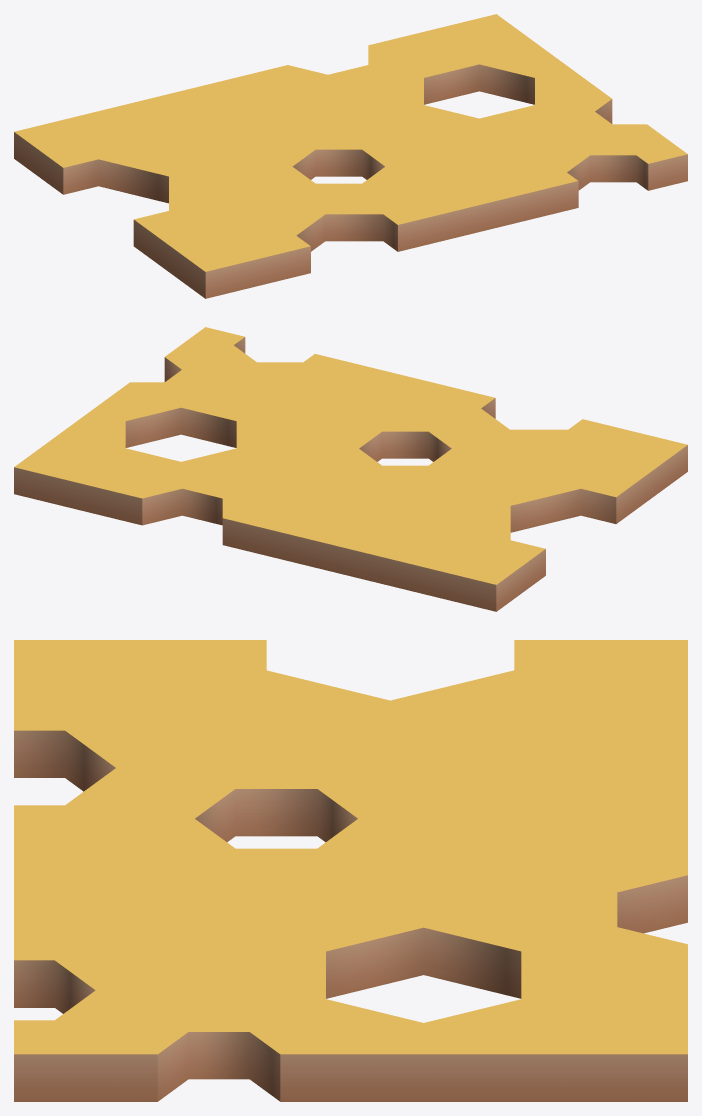
The model's file is cheese-cut.f1ae060704.glb.
3 views of the same model, one above another, from view 1: azimuth 30°, elevation 25°; view 2: azimuth 150°, elevation 25°; view 3: azimuth 270°, elevation 25° (orthographic). The views are drawn at different scales.
Parts seen in each view (by area): view 1: cheese-cut; view 2: cheese-cut; view 3: cheese-cut.
Part boxes in pixels (x1,y1,x2,y2): cheese-cut: (14, 14, 687, 298); cheese-cut: (14, 327, 687, 611); cheese-cut: (14, 640, 687, 1101).
Size of the model in its own units: 0.384 by 0.0205 by 0.264.
1 material, 1 textured.
